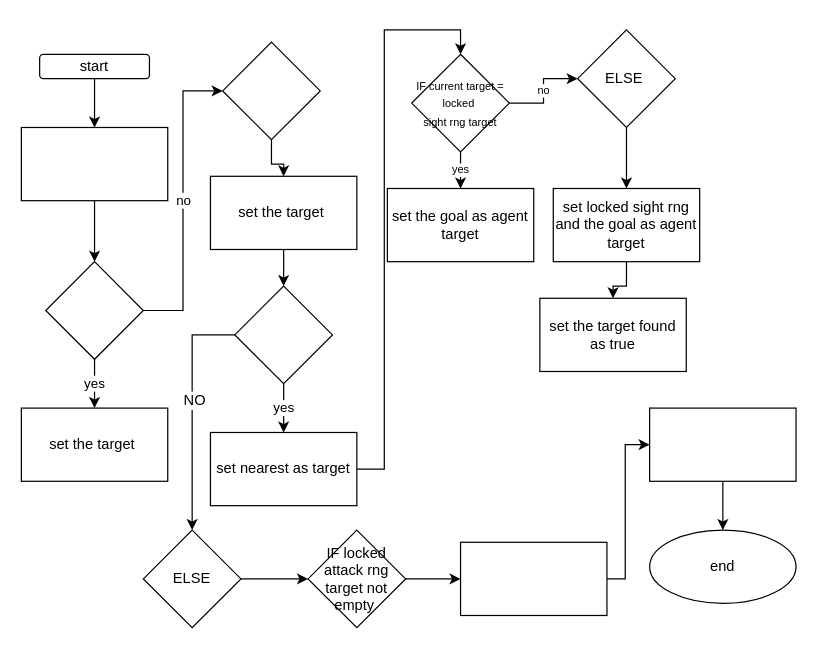
This 817x649 diagram has some shape labels left out. The centre of each missing label's shape, as x and y in pixels:
ELSE IF attack rng target not empty: [270,90]
IF nearest target has sight data: [94,309]
IF target not undefined: [283,334]
initialize the set target and target: [94,163]
return the target: [722,444]
set target found as reset target: [533,578]
